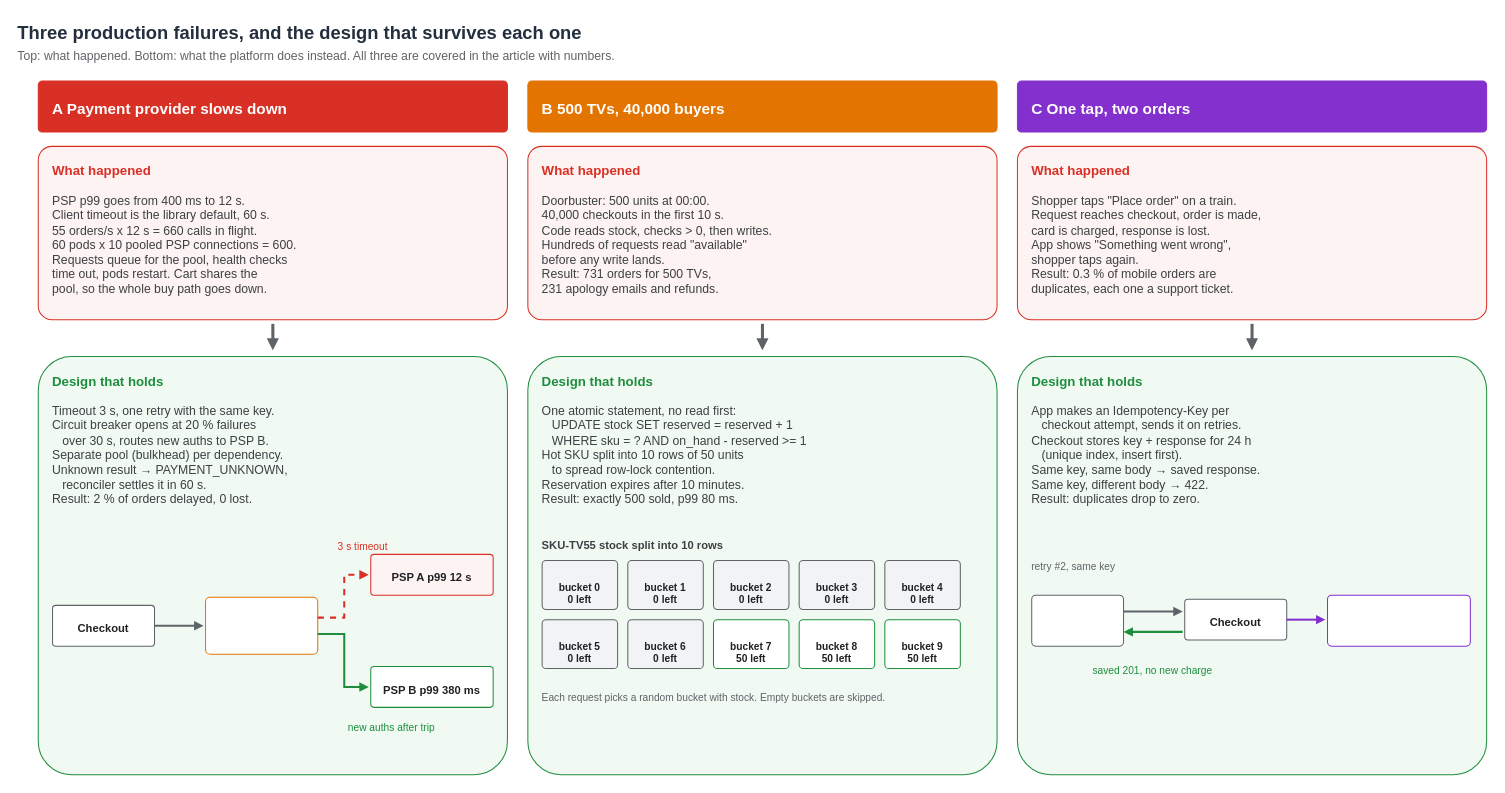
The diagram is 1505 pixels wide and 793 high, and some of its shapes have lost their labels. Each missing label, with the centre of its shape:
App key 7f3a: the point at 1077,620
Breaker closed / open: the point at 261,625
Key store 7f3a → 201 o-88213: the point at 1398,620
